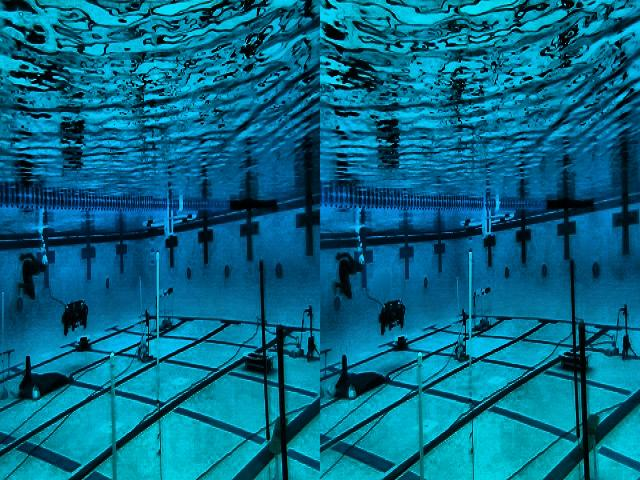octagon_table: (474, 286, 491, 333), (159, 286, 174, 332)
octagon_top: (142, 223, 188, 239), (461, 223, 505, 238)
path_marker: (579, 412, 601, 480), (268, 416, 288, 478), (0, 348, 15, 380), (320, 348, 332, 382)
